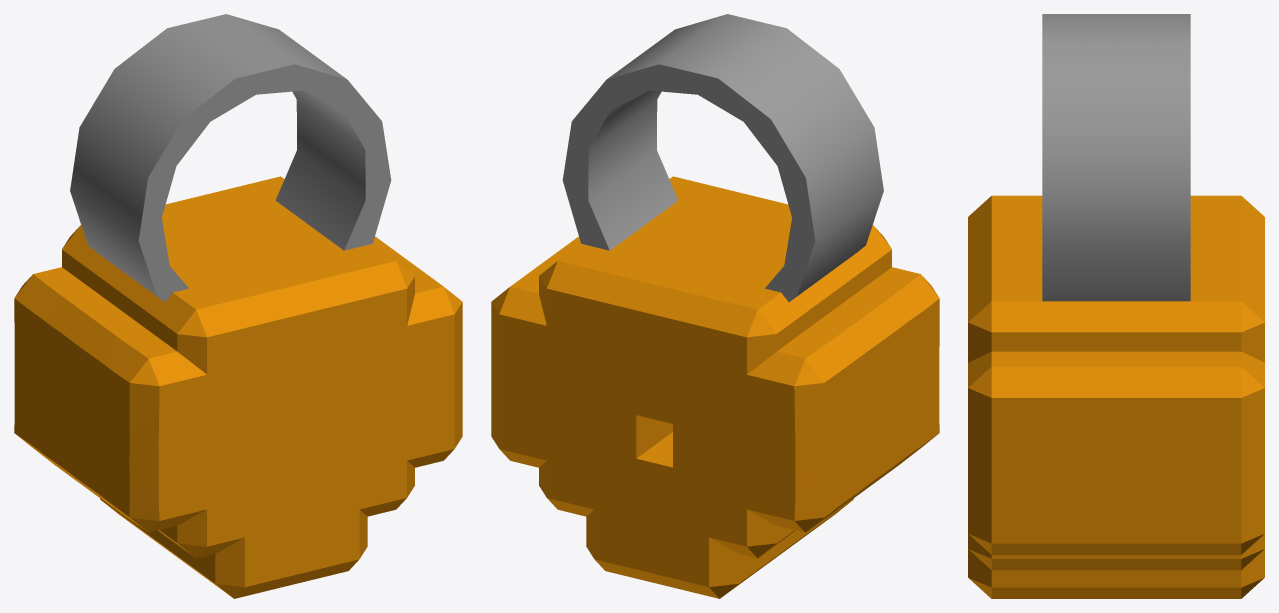
File: Lock_Closed_Orange.fbx
3 views of the same model, side by side, from view 1: azimuth 30°, elevation 25°; view 2: azimuth 150°, elevation 25°; view 3: azimuth 270°, elevation 25° (orthographic). The views are drawn at different scales.
Visible parts, largest first — view 1: Lock_Closed_Orange; view 2: Lock_Closed_Orange; view 3: Lock_Closed_Orange.
Boxes of the visible parts, x1,y1,x2,y2 form: Lock_Closed_Orange: (14, 14, 462, 598); Lock_Closed_Orange: (491, 14, 939, 598); Lock_Closed_Orange: (968, 14, 1264, 598).
Bounding box in the file's own units: 7 × 9.99 × 5.
